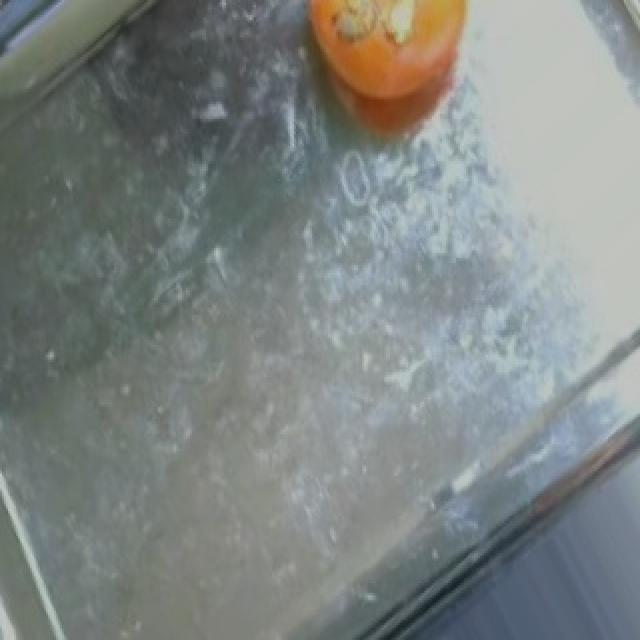Fruit: (276, 0, 496, 164)
